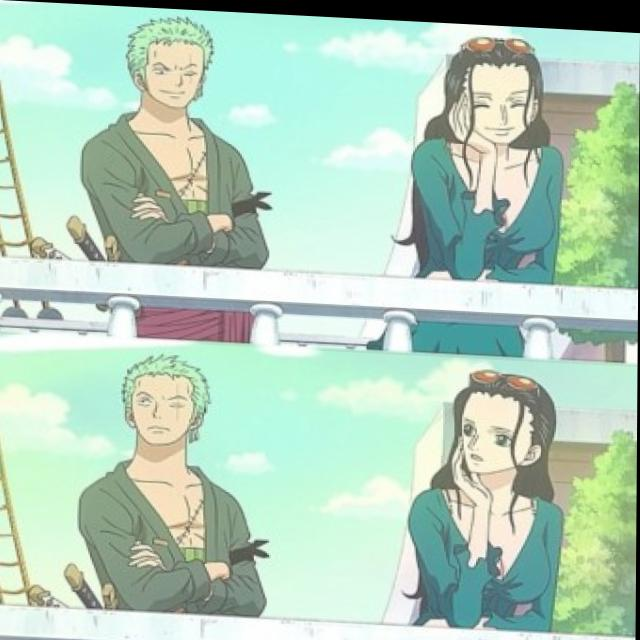NicoRobin: (437, 363, 570, 502), (413, 30, 559, 156)
Zoro: (109, 11, 238, 113), (109, 350, 223, 460)
